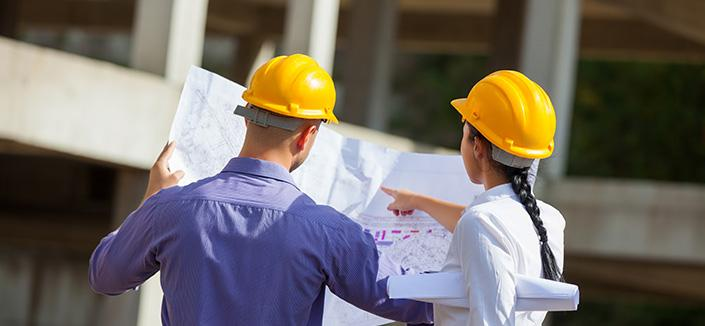helmet: (452, 70, 556, 159), (243, 55, 341, 126)
